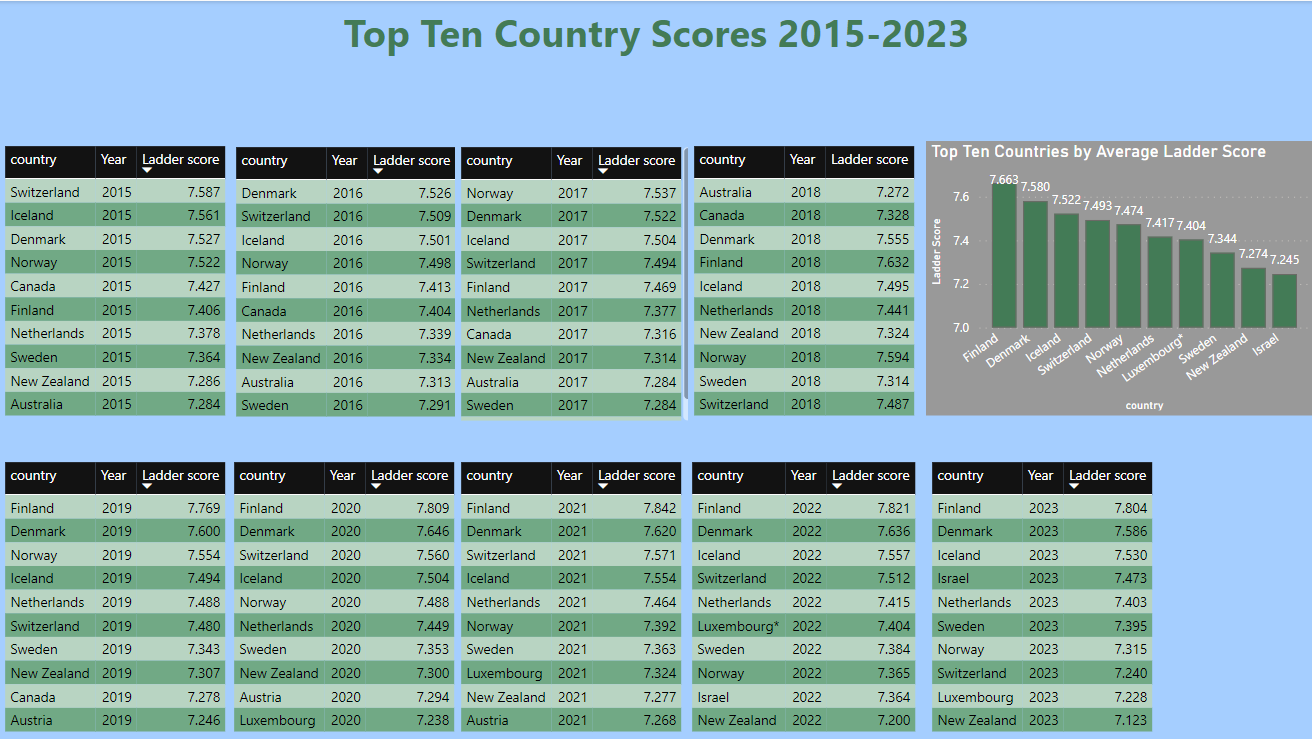

Layout of this report page (visuals, bound fields, positions):
{"tool":"powerbi","page":{"name":"Top Ten Scores","canvas":[1280,720],"ordinal":0},"visuals":[{"type":"clusteredColumnChart","title":"Top Ten Countries by Average Ladder Score","fields":{"Category":["Ladder Score.country"],"Y":["Avg(Ladder Score.Ladder score)"]},"box":[901.6,136.2,378.4,267.5],"z":0},{"type":"textbox","box":[0,0,1279.5,118.8],"z":1000},{"type":"tableEx","title":"2015 Top Ten","fields":{"Values":["Ladder Score.country","Ladder Score.year.Variation.Date Hierarchy.Year","Ladder Score.Ladder score"]},"box":[0,136.2,226.6,291.8],"z":2000},{"type":"tableEx","fields":{"Values":["Ladder Score.country","Ladder Score.year.Variation.Date Hierarchy.Year","Ladder Score.Ladder score"]},"box":[224.7,137.1,231.5,274.3],"z":3000},{"type":"tableEx","fields":{"Values":["Ladder Score.country","Ladder Score.year.Variation.Date Hierarchy.Year","Ladder Score.Ladder score"]},"box":[443.5,137.1,236.4,276.2],"z":4000},{"type":"tableEx","fields":{"Values":["Ladder Score.country","Ladder Score.year.Variation.Date Hierarchy.Year","Ladder Score.Ladder score"]},"box":[670.2,136.2,231.5,276.2],"z":5000},{"type":"tableEx","fields":{"Values":["Ladder Score.country","Ladder Score.year.Variation.Date Hierarchy.Year","Ladder Score.Ladder score"]},"box":[0,443.5,226.6,272.3],"z":6000},{"type":"tableEx","fields":{"Values":["Ladder Score.country","Ladder Score.year.Variation.Date Hierarchy.Year","Ladder Score.Ladder score"]},"box":[222.7,443.5,226.6,276.2],"z":7000},{"type":"tableEx","fields":{"Values":["Ladder Score.country","Ladder Score.year.Variation.Date Hierarchy.Year","Ladder Score.Ladder score"]},"box":[443.5,443.5,230.5,276.2],"z":8000},{"type":"tableEx","fields":{"Values":["Ladder Score.country","Ladder Score.year.Variation.Date Hierarchy.Year","Ladder Score.Ladder score"]},"box":[668.2,443.5,233.4,276.2],"z":9000},{"type":"tableEx","fields":{"Values":["Ladder Score.country","Ladder Score.year.Variation.Date Hierarchy.Year","Ladder Score.Ladder score"]},"box":[901.6,443.5,234.4,272.3],"z":10000}]}

Visuals, with their boxes in screenshot pixels (x1, y1, x2, y2), scaled from the page's 1280x720 canvas onto the 1312x739 screenshot:
"Top Ten Countries by Average Ladder Score" clusteredColumnChart: box(924, 140, 1311, 414)
textbox: box(0, 0, 1311, 122)
"2015 Top Ten" tableEx: box(0, 140, 232, 439)
tableEx - Ladder Score.country x Ladder Score.year.Variation.Date Hierarchy.Year: box(230, 141, 468, 422)
tableEx - Ladder Score.country x Ladder Score.year.Variation.Date Hierarchy.Year: box(455, 141, 697, 424)
tableEx - Ladder Score.country x Ladder Score.year.Variation.Date Hierarchy.Year: box(687, 140, 924, 423)
tableEx - Ladder Score.country x Ladder Score.year.Variation.Date Hierarchy.Year: box(0, 455, 232, 735)
tableEx - Ladder Score.country x Ladder Score.year.Variation.Date Hierarchy.Year: box(228, 455, 461, 738)
tableEx - Ladder Score.country x Ladder Score.year.Variation.Date Hierarchy.Year: box(455, 455, 691, 738)
tableEx - Ladder Score.country x Ladder Score.year.Variation.Date Hierarchy.Year: box(685, 455, 924, 738)
tableEx - Ladder Score.country x Ladder Score.year.Variation.Date Hierarchy.Year: box(924, 455, 1164, 735)
